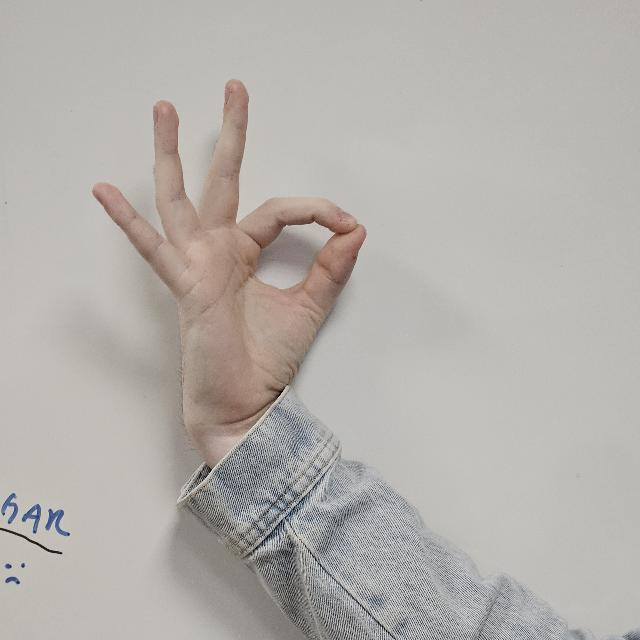Bolinha: (83, 79, 381, 435)
